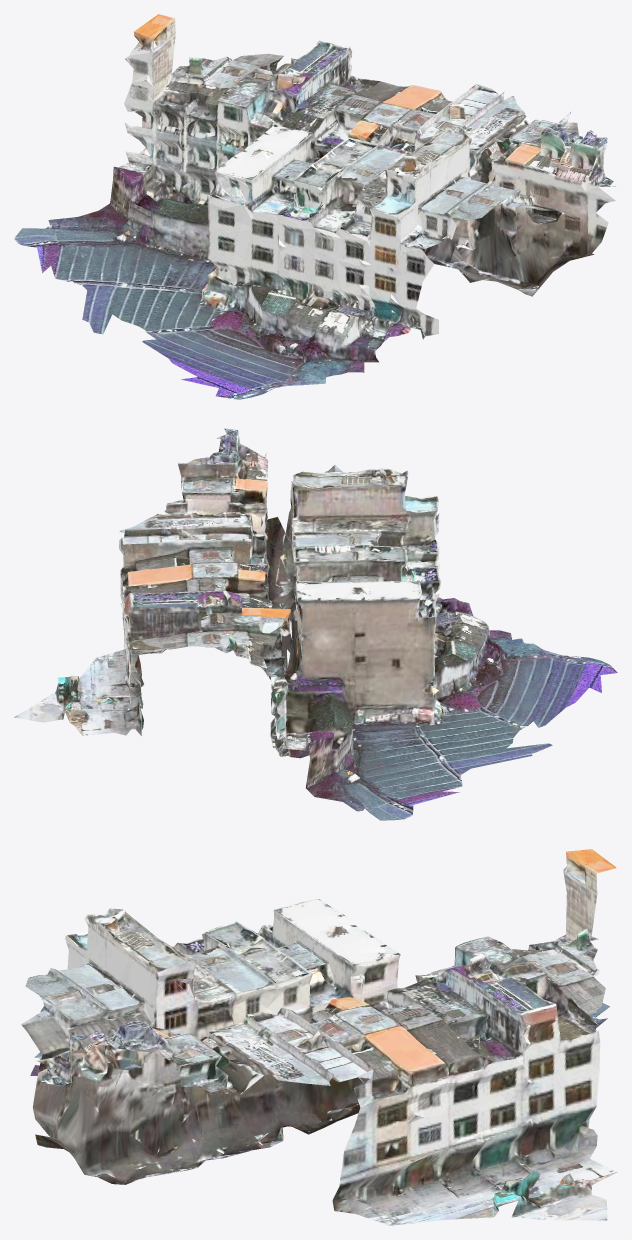
Rendered from Tile_+011_+018_L19_000011.glb.
3 views of the same model, one above another, from view 1: azimuth 30°, elevation 25°; view 2: azimuth 150°, elevation 25°; view 3: azimuth 270°, elevation 25° (orthographic). The views are drawn at different scales.
Parts seen in each view (by area): view 1: rtc; view 2: rtc; view 3: rtc.
Part boxes in pixels (x1,y1,x2,y2): rtc: (14, 14, 615, 399); rtc: (14, 428, 617, 820); rtc: (21, 849, 617, 1225).
Size of the model in its own units: 58.25 by 23.66 by 56.29.
1 material, 1 textured.
